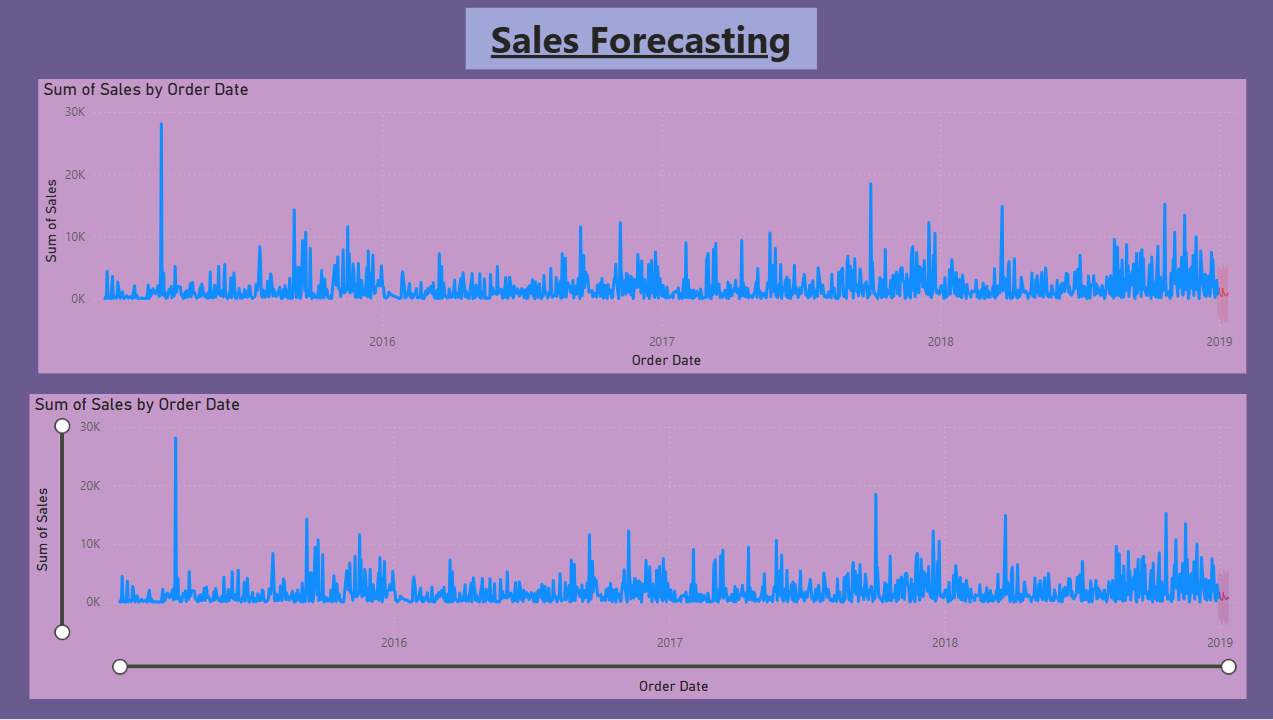

What the dashboard file says about the page in this screenshot:
{"tool":"powerbi","page":{"name":"Page 2","canvas":[1280,720],"ordinal":1},"visuals":[{"type":"lineChart","fields":{"Y":["Sum(train.Sales)"],"Category":["train.Order Date"]},"box":[41.6,79.5,1208.2,294.7],"z":0},{"type":"lineChart","fields":{"Y":["Sum(train.Sales)"],"Category":["train.Order Date"]},"box":[33,395,1216.7,304.5],"z":1},{"type":"textbox","box":[469.3,8.4,351.1,61.5],"z":2}]}

Visuals, with their boxes in screenshot pixels (x1, y1, x2, y2), scaled from the page's 1280x720 canvas onto the 1273x720 screenshot:
lineChart - Sum(train.Sales) x train.Order Date: [41, 80, 1243, 374]
lineChart - Sum(train.Sales) x train.Order Date: [33, 395, 1243, 700]
textbox: [467, 8, 816, 70]
